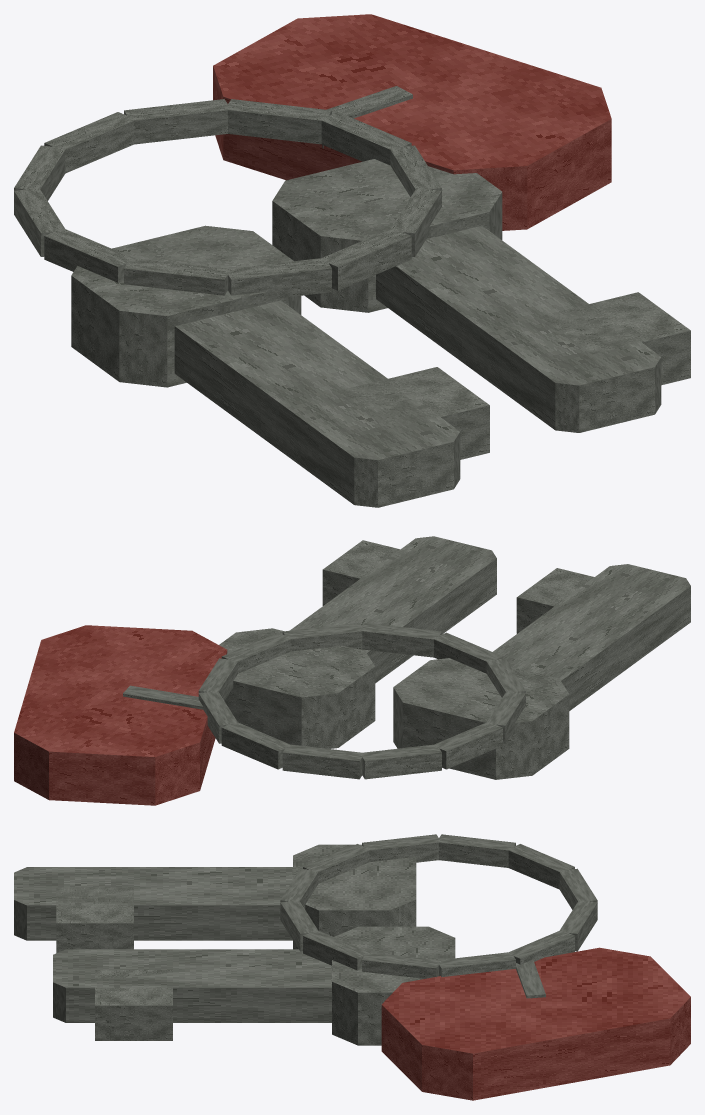
Rendered from keyring.glb.
The picture shows the model from 3 angles, top to bottom: view 1: azimuth 30°, elevation 25°; view 2: azimuth 150°, elevation 25°; view 3: azimuth 270°, elevation 25°; orthographic projection. The views are drawn at different scales.
Visible parts, largest first — view 1: Body; view 2: Body; view 3: Body.
Part boxes in pixels (x1,y1,x2,y2): Body: (14, 14, 690, 507); Body: (14, 536, 690, 805); Body: (14, 834, 690, 1100).
Size of the model in its own units: 0.0773 by 0.011 by 0.1043.
Materials: 1 (1 with a texture image).
